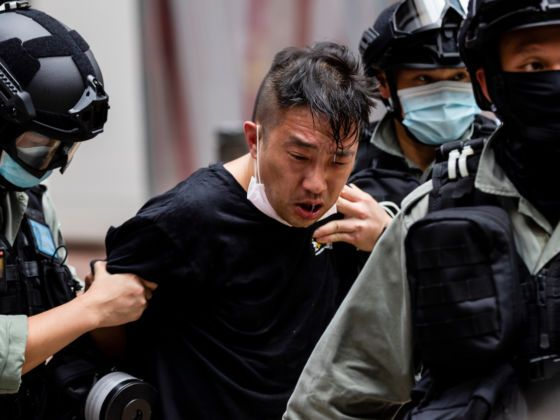mouth: (293, 200, 324, 218)
nose: (301, 180, 326, 196)
